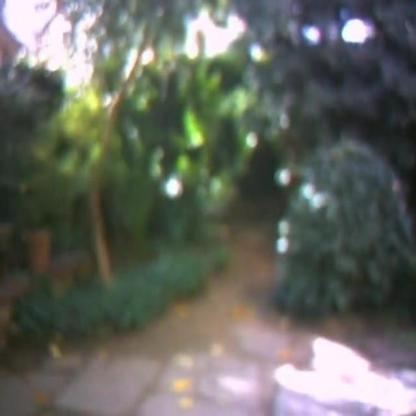other: (4, 1, 388, 82)
